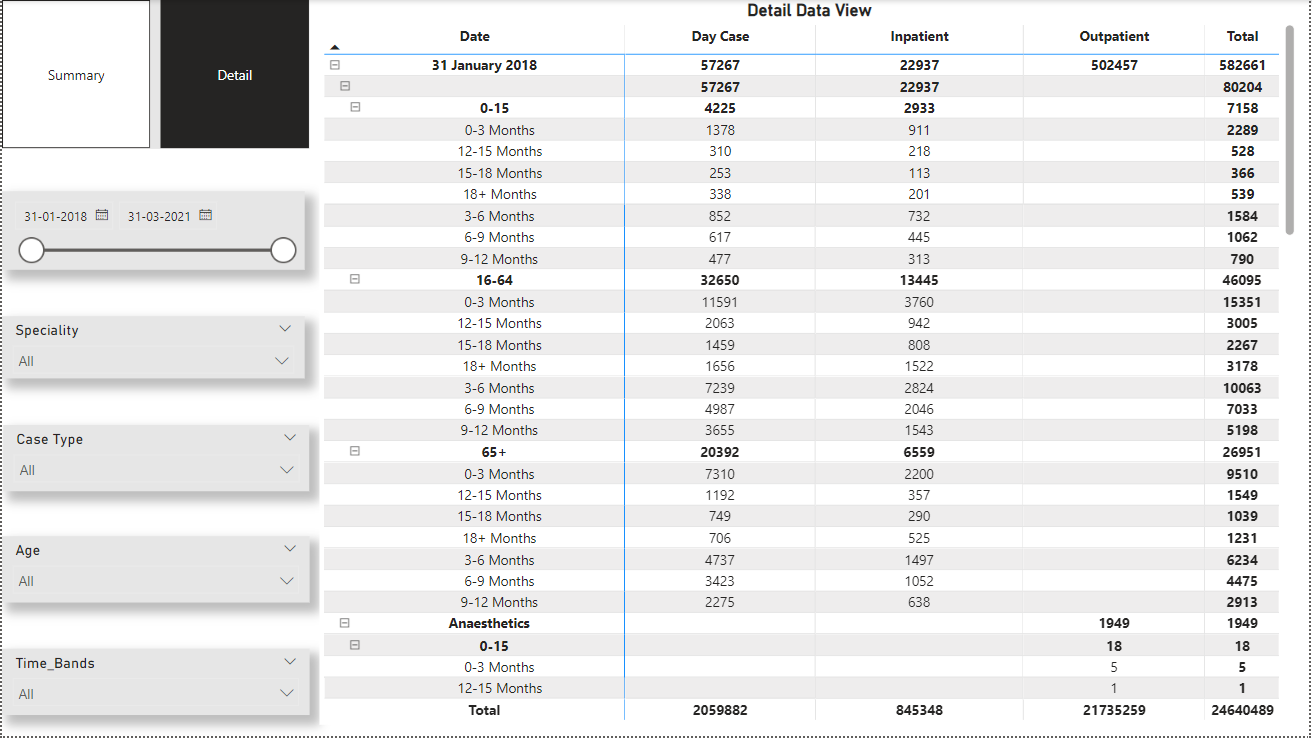

The page's visual inventory and layout, read from the dashboard file:
{"tool":"powerbi","page":{"name":"Detail","canvas":[1280,720],"ordinal":1},"visuals":[{"type":"slicer","fields":{"Values":["Combined Dataset.Archive_Date"]},"box":[0,187,295.8,77],"z":0},{"type":"slicer","fields":{"Values":["Combined Dataset.Case_Type"]},"box":[1.2,415,299.5,64.8],"z":1000},{"type":"slicer","fields":{"Values":["Combined Dataset.Speciality_Name"]},"box":[0,309,295.8,61.1],"z":2000},{"type":"pageNavigator","box":[0,0,300.7,145.5],"z":3000},{"type":"slicer","fields":{"Values":["Combined Dataset.Age_Profile"]},"box":[0,524.7,300.7,64.8],"z":4000},{"type":"slicer","fields":{"Values":["Combined Dataset.Time_Bands"]},"box":[0,634.4,300.7,64.8],"z":5000},{"type":"pivotTable","title":"Detail Data View","fields":{"Rows":["Combined Dataset.Archive_Date","Combined Dataset.Speciality_Name","Combined Dataset.Age_Profile","Combined Dataset.Time_Bands"],"Columns":["Combined Dataset.Case_Type"],"Values":["Sum(Combined Dataset.Total)"]},"box":[310.5,0,958.4,709],"z":6000}]}

Visuals, with their boxes on the page's 1280x720 design canvas (x1, y1, x2, y2). These are canvas units, not pixel positions in the 1312x740 screenshot, which may show the page scaled, cropped or inside an application window:
slicer - Combined Dataset.Archive_Date: (x1=0, y1=187, x2=296, y2=264)
slicer - Combined Dataset.Case_Type: (x1=1, y1=415, x2=301, y2=480)
slicer - Combined Dataset.Speciality_Name: (x1=0, y1=309, x2=296, y2=370)
pageNavigator: (x1=0, y1=0, x2=301, y2=146)
slicer - Combined Dataset.Age_Profile: (x1=0, y1=525, x2=301, y2=590)
slicer - Combined Dataset.Time_Bands: (x1=0, y1=634, x2=301, y2=699)
"Detail Data View" pivotTable: (x1=310, y1=0, x2=1269, y2=709)
